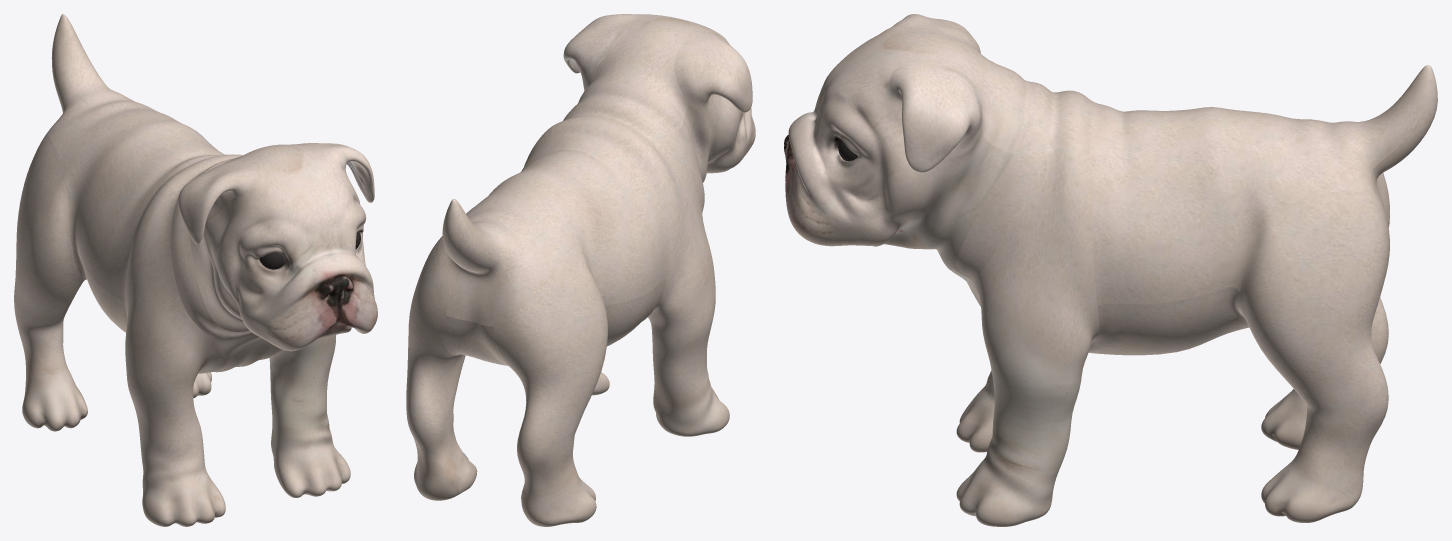
File: dog.glb
The picture shows the model from 3 angles, left to right: view 1: azimuth 30°, elevation 25°; view 2: azimuth 150°, elevation 25°; view 3: azimuth 270°, elevation 25°; orthographic projection. The views are drawn at different scales.
Parts seen in each view (by area): view 1: Bulldog_Puppy; view 2: Bulldog_Puppy; view 3: Bulldog_Puppy.
Part boxes in pixels (left/top/right/bottom): Bulldog_Puppy: left=14, top=14, right=377, bottom=526; Bulldog_Puppy: left=406, top=14, right=755, bottom=526; Bulldog_Puppy: left=784, top=14, right=1437, bottom=526.
Bounding box in the file's own units: 19.82 × 36.02 × 48.98.
2 materials, 1 textured.
